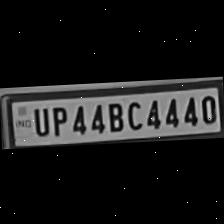0: (196, 91, 218, 123)
4: (67, 100, 87, 134), (84, 99, 104, 133), (142, 94, 162, 128), (159, 93, 179, 127), (178, 92, 198, 124)
B: (102, 97, 124, 130)
C: (123, 96, 143, 130)
P: (47, 102, 67, 134)
U: (29, 102, 50, 136)
